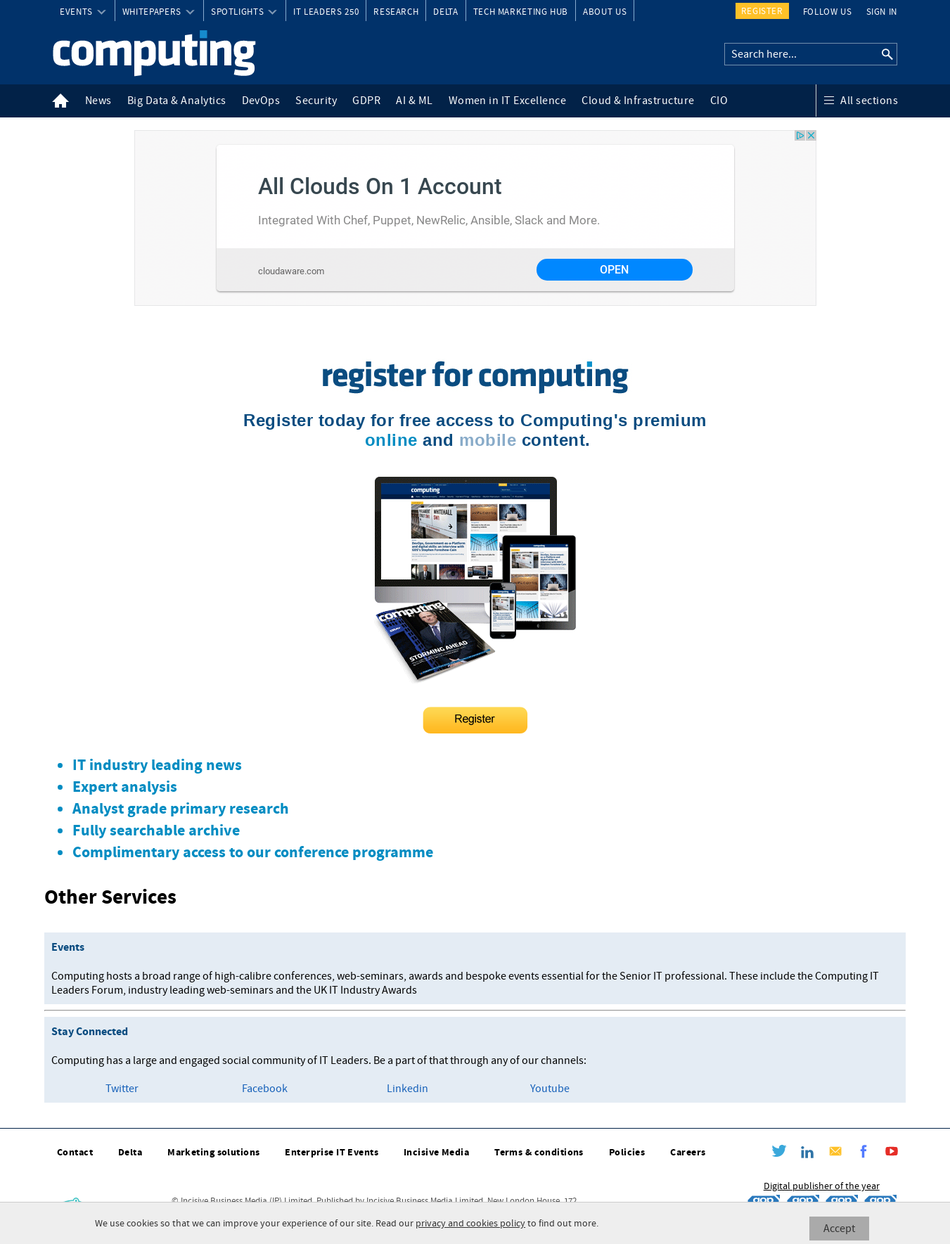fake_button: (522, 241, 708, 308), (404, 698, 540, 737)
